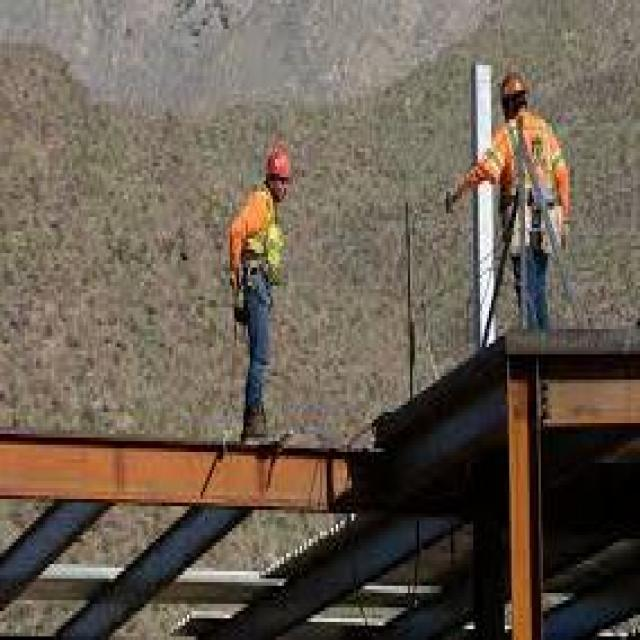Reflective-Jacket: (487, 109, 577, 253), (225, 184, 298, 311)
Safety-Helmet: (255, 130, 298, 192), (496, 61, 534, 116)
